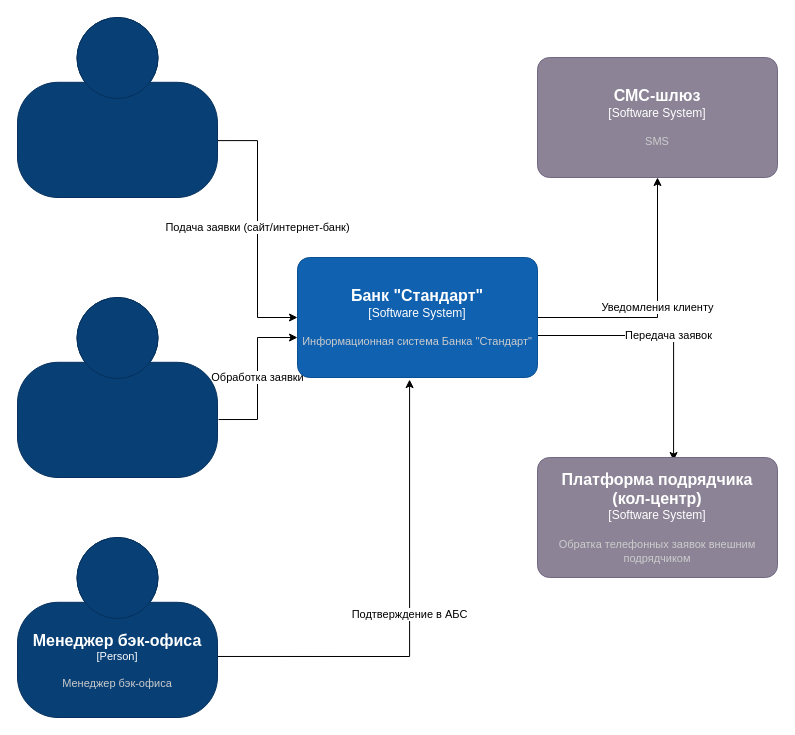
Some shapes in this 795 by 735 pixel diagram are drawn without their labels. Here are the shapes that lost their labels. From the top down, the centre of each, then its label:
At (x=117, y=107): "Клиент [Person] Клиент".
At (x=117, y=387): "Менеджер кол-центра [Person] Менеджер кол-центра".
